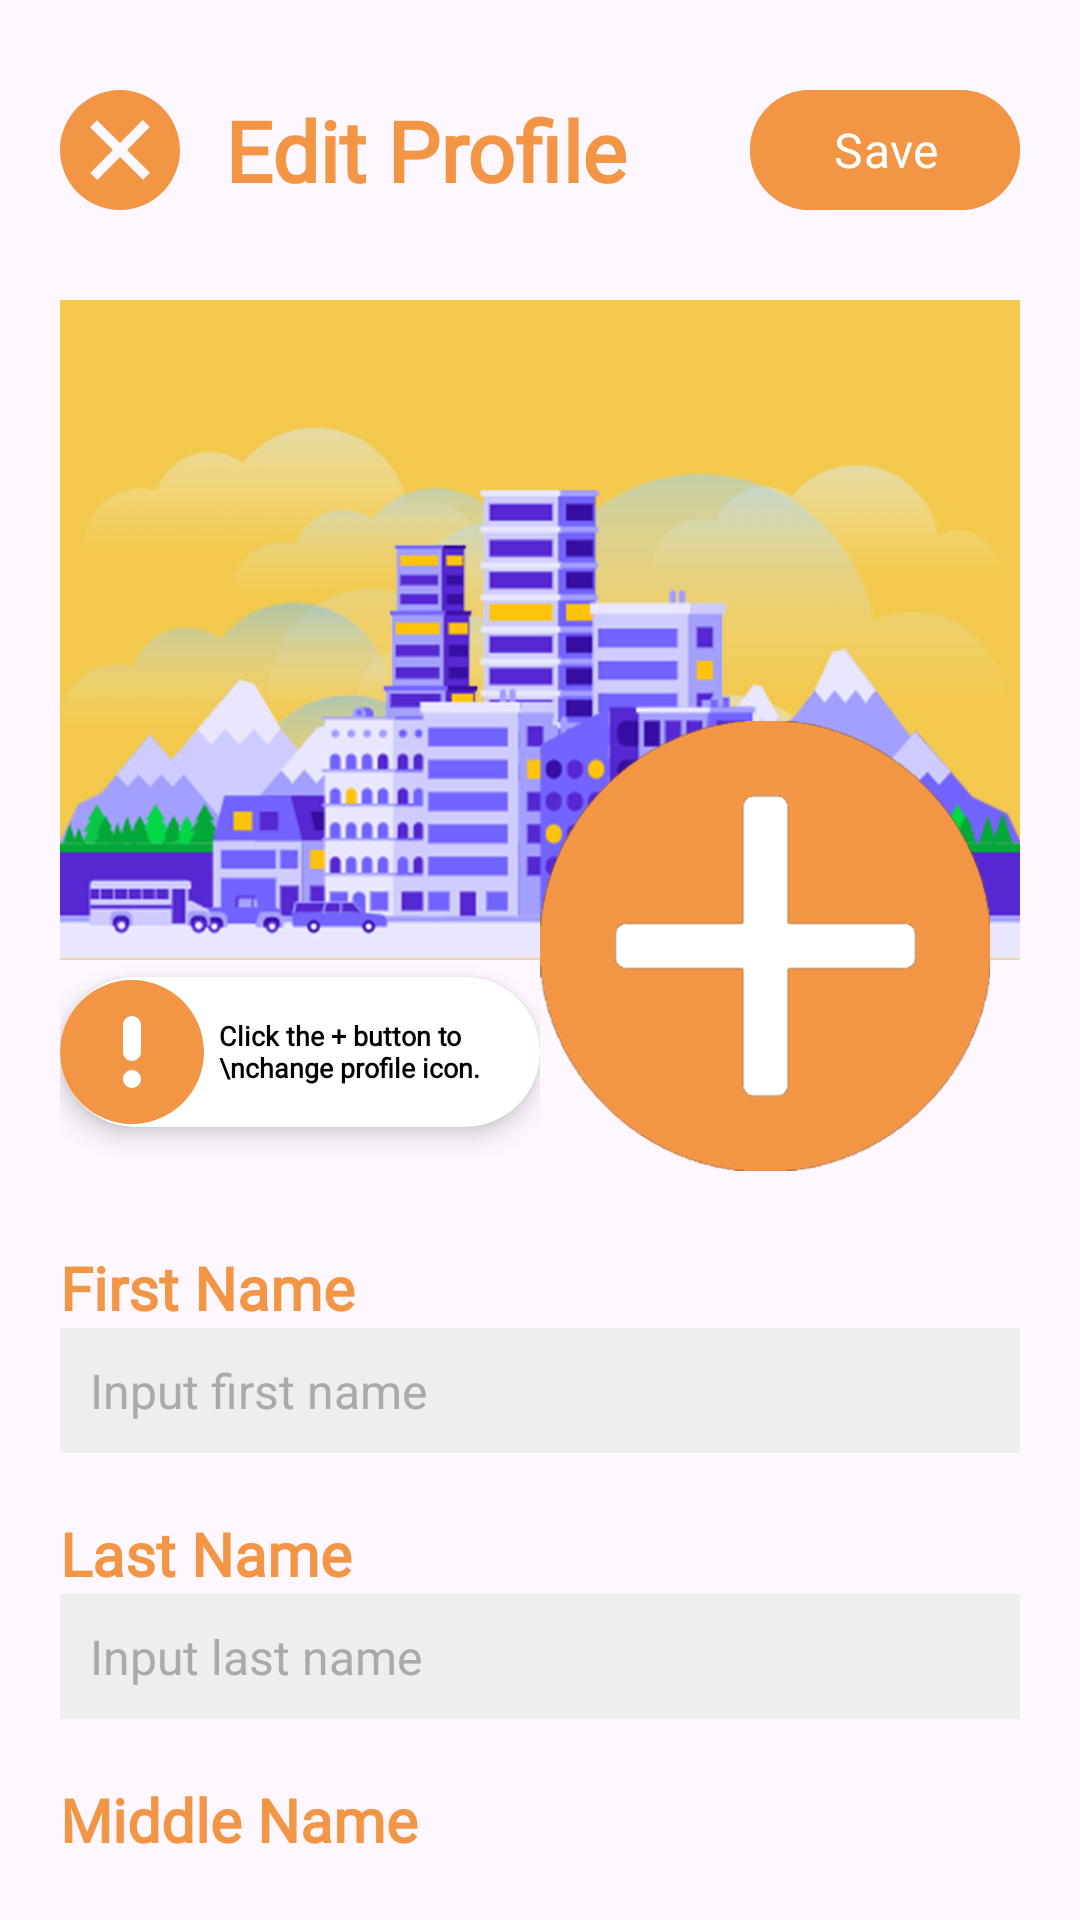

Icons on this 1080px×1920px Android screen, each with the point to tap as (x=x, y=y):
popup exclamation: (x=132, y=1053)
popup exit: (x=120, y=150)
